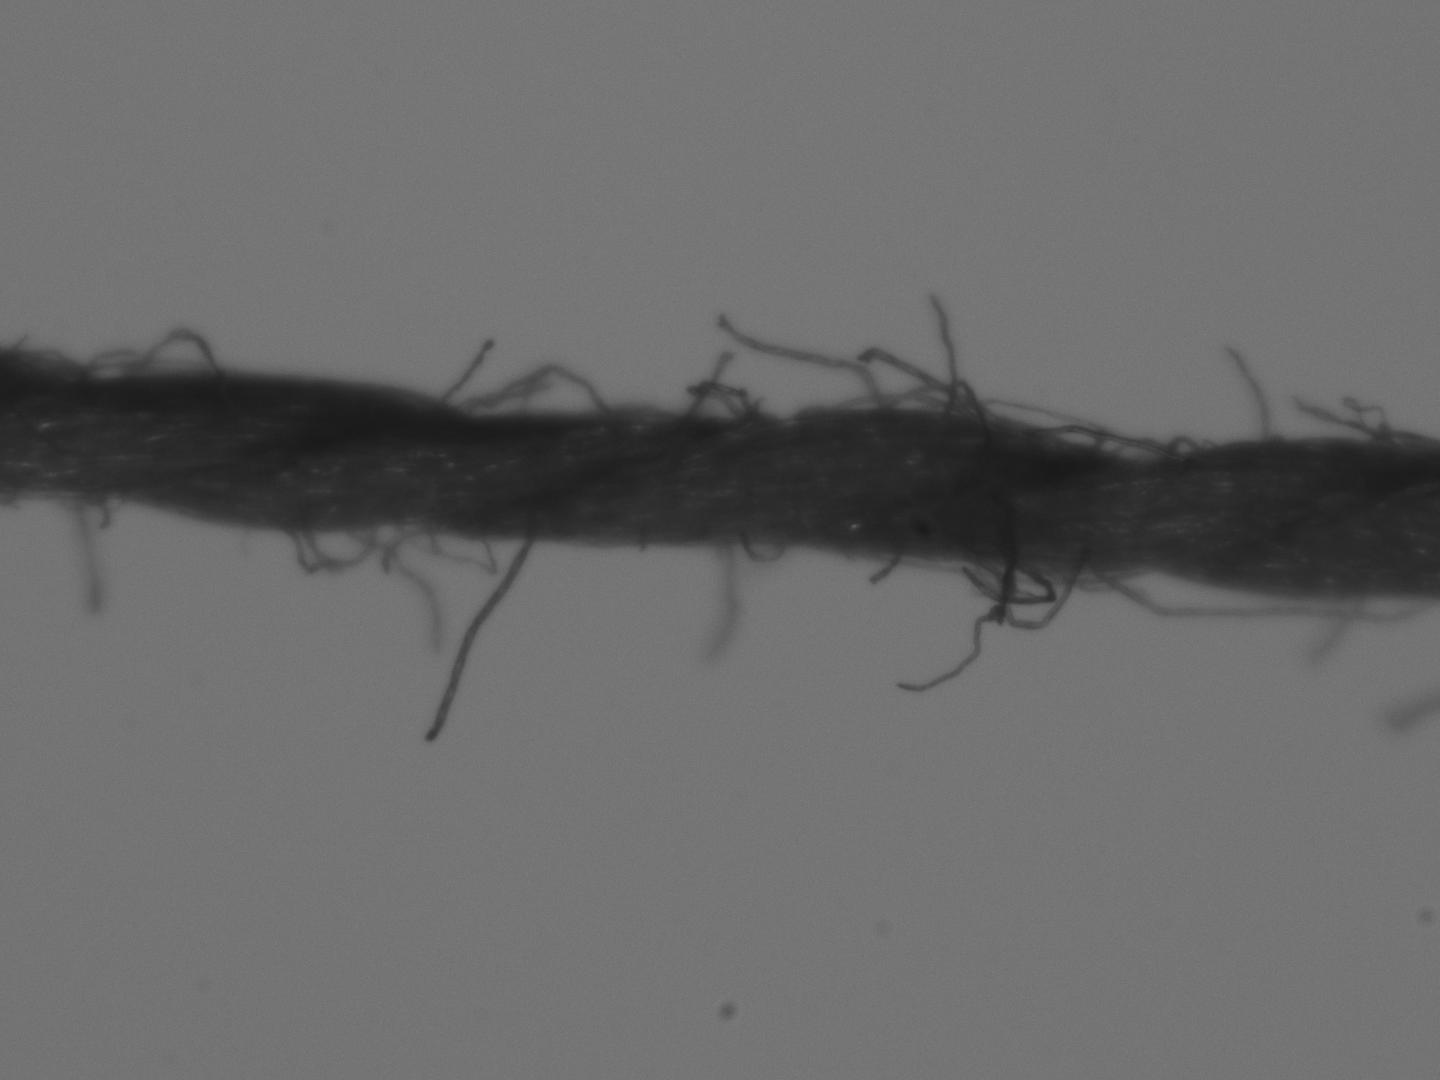loop_fiber: (849, 373, 1218, 467), (1082, 565, 1438, 622), (854, 344, 986, 432), (942, 559, 1134, 609), (455, 362, 618, 420), (76, 330, 229, 385), (677, 355, 783, 430), (347, 525, 497, 573), (276, 528, 382, 581), (739, 538, 791, 562)
protruding_fiber: (429, 532, 540, 742), (903, 572, 1081, 690), (719, 311, 895, 413), (1293, 391, 1389, 448), (923, 284, 964, 417), (1228, 344, 1278, 448), (433, 331, 498, 406), (701, 542, 737, 667), (71, 488, 95, 609)
